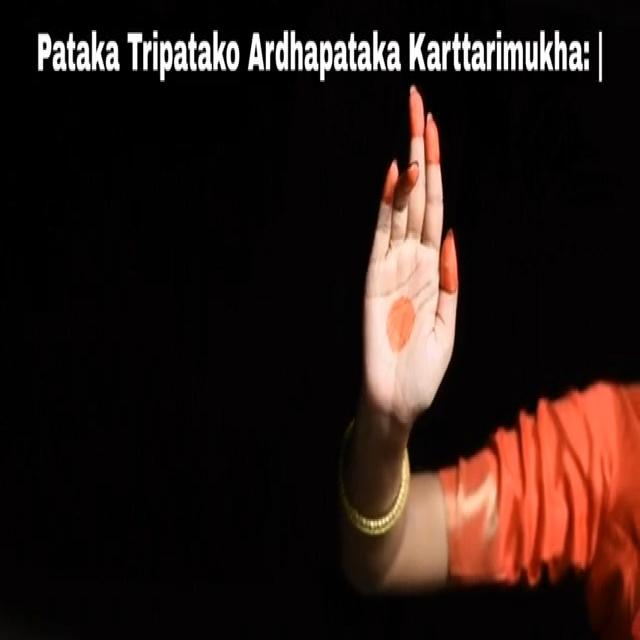Tripataka: (346, 92, 481, 602), (391, 76, 392, 90), (398, 76, 399, 86)
bangle: (330, 474, 426, 545), (372, 462, 373, 473)
text: (17, 2, 614, 92)
